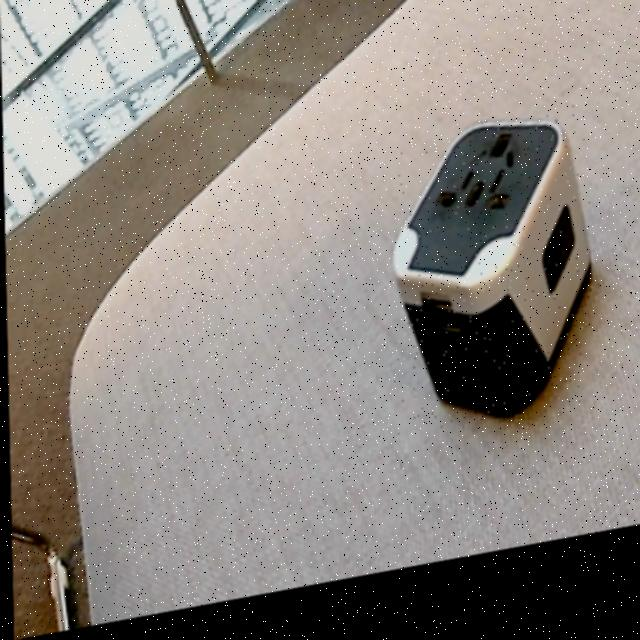adapter: (387, 122, 592, 452)
